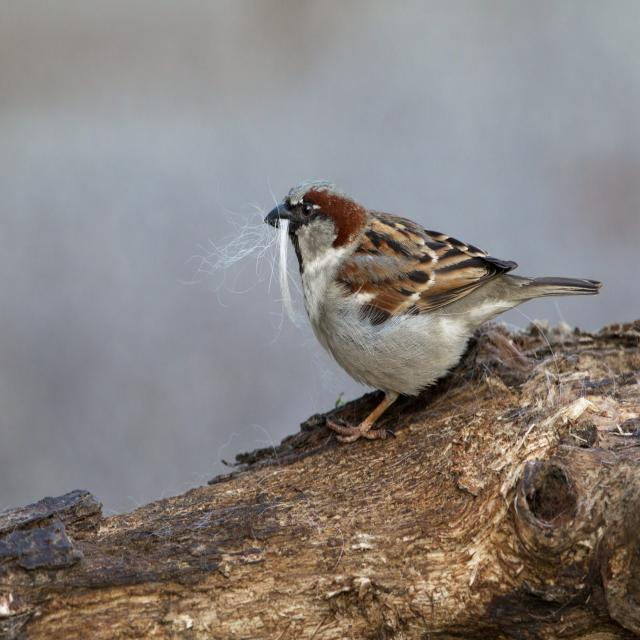Sparrow: (266, 172, 594, 436)
